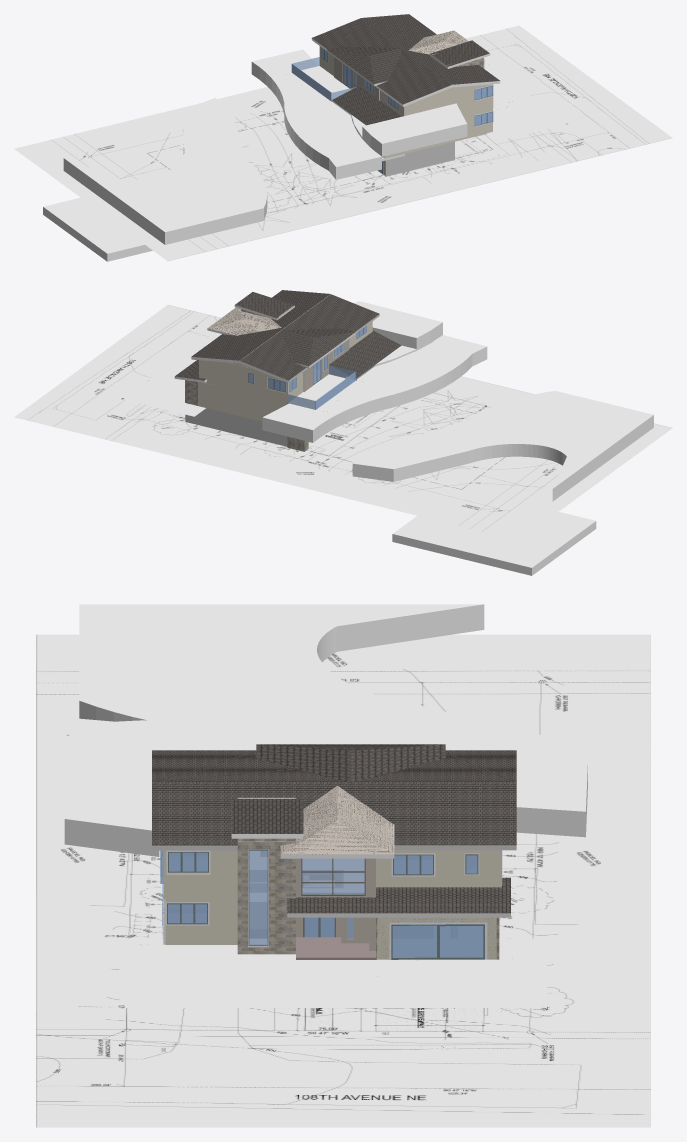
File: BellevueInvestment.glb
The picture shows the model from 3 angles, top to bottom: view 1: azimuth 30°, elevation 25°; view 2: azimuth 150°, elevation 25°; view 3: azimuth 270°, elevation 25°; orthographic projection. The views are drawn at different scales.
Visible parts, largest first — view 1: image_0, group_154.001, group_153.001, group_152.002, group_83.001, instance_84, group_77, group_82.001, group_90, group_88.001, group_26.001, group_74 (+5 smaller); view 2: image_0, group_154.001, group_153.001, instance_84, group_83.001, group_82.001, group_152.002, group_77, group_30.001, group_4.001, group_90, group_63.001 (+4 smaller); view 3: image_0, group_154.001, group_77, group_82.001, group_153.001, group_152.002, group_83.001, group_101.001, group_79.001, group_90, group_9.001, group_29 (+14 smaller).
Boxes of the visible parts, x1=… form: image_0: x1=14, y1=25, x2=672, y2=261; group_154.001: x1=63, y1=97, x2=267, y2=244; group_153.001: x1=251, y1=49, x2=381, y2=179; group_152.002: x1=351, y1=103, x2=467, y2=156; group_83.001: x1=312, y1=18, x2=450, y2=104; instance_84: x1=43, y1=197, x2=152, y2=261; group_77: x1=484, y1=62, x2=568, y2=140; group_82.001: x1=361, y1=14, x2=499, y2=84; group_90: x1=327, y1=46, x2=402, y2=84; group_88.001: x1=332, y1=86, x2=401, y2=125; group_26.001: x1=405, y1=84, x2=492, y2=115; group_74: x1=385, y1=141, x2=454, y2=176; image_0: x1=14, y1=305, x2=672, y2=540; group_154.001: x1=352, y1=390, x2=653, y2=501; group_153.001: x1=262, y1=335, x2=487, y2=442; instance_84: x1=392, y1=512, x2=596, y2=575; group_83.001: x1=240, y1=294, x2=379, y2=380; group_82.001: x1=191, y1=290, x2=330, y2=360; group_152.002: x1=354, y1=301, x2=442, y2=366; group_77: x1=124, y1=332, x2=221, y2=416; group_30.001: x1=200, y1=360, x2=288, y2=402; group_4.001: x1=198, y1=382, x2=286, y2=421; group_90: x1=281, y1=328, x2=355, y2=366; group_63.001: x1=186, y1=408, x2=287, y2=446; image_0: x1=36, y1=634, x2=650, y2=1127; group_154.001: x1=79, y1=604, x2=573, y2=761; group_77: x1=120, y1=938, x2=546, y2=1007; group_82.001: x1=152, y1=782, x2=516, y2=845; group_153.001: x1=69, y1=718, x2=587, y2=837; group_152.002: x1=64, y1=736, x2=159, y2=856; group_83.001: x1=152, y1=750, x2=516, y2=782; group_101.001: x1=287, y1=877, x2=510, y2=913; group_79.001: x1=280, y1=786, x2=394, y2=854; group_90: x1=256, y1=744, x2=445, y2=782; group_9.001: x1=237, y1=841, x2=295, y2=954; group_29: x1=376, y1=850, x2=501, y2=887.
Bounding box in the file's own units: 2485 × 631 × 1310.
26 materials, 4 textured.
